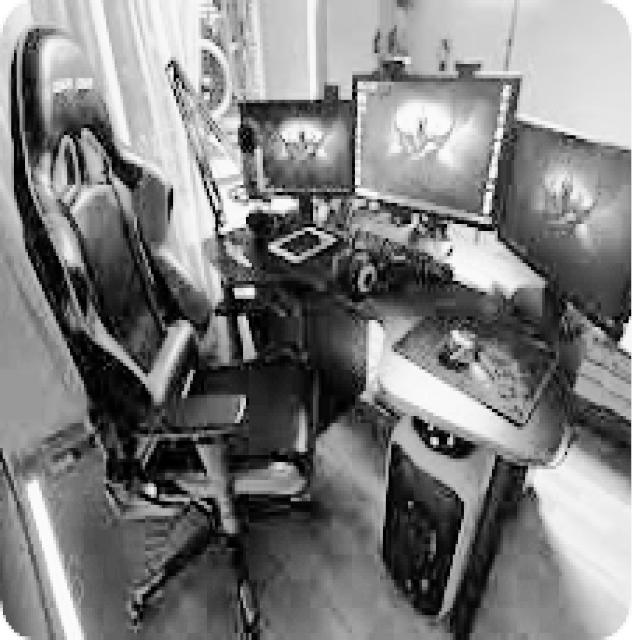book: (12, 15, 308, 640)
table: (180, 180, 545, 625)
